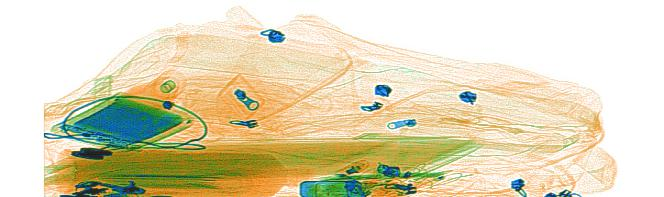plasticBottleWithaNozzle: (108, 68, 187, 130)
